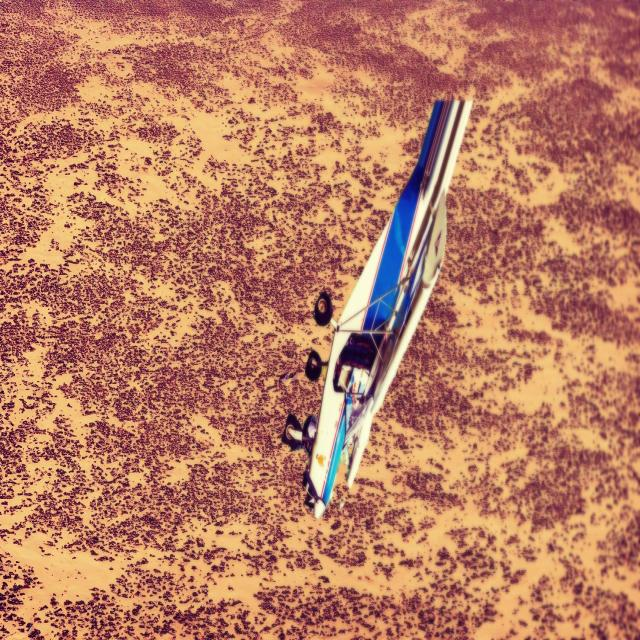airplane: (282, 96, 473, 520)
